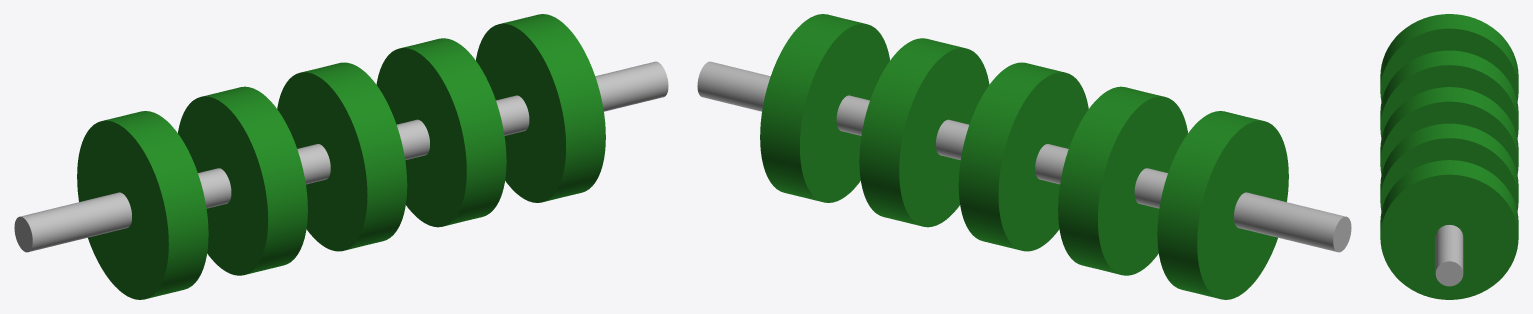
Rendered from sweeper_Shrinkwrap_1 v1.fbx.
3 renders of one model, left to right at view 1: azimuth 30°, elevation 25°; view 2: azimuth 150°, elevation 25°; view 3: azimuth 270°, elevation 25°, orthographic. The views are drawn at different scales.
Visible parts, largest first — view 1: Body4, Body2, Body6, Body3, Body5, Body1; view 2: Body4, Body2, Body6, Body5, Body3, Body1; view 3: Body6, Body2, Body3, Body5, Body4, Body1.
Boxes of the visible parts, x1,y1,x2,y2 form: Body4: [77, 111, 208, 299]; Body2: [277, 62, 407, 251]; Body6: [476, 14, 605, 202]; Body3: [178, 86, 307, 275]; Body5: [376, 38, 506, 227]; Body1: [14, 61, 668, 252]; Body4: [1157, 111, 1288, 299]; Body2: [958, 62, 1088, 251]; Body6: [760, 14, 889, 202]; Body5: [859, 38, 989, 227]; Body3: [1058, 86, 1187, 275]; Body1: [697, 61, 1351, 252]; Body6: [1380, 160, 1518, 299]; Body2: [1380, 87, 1518, 174]; Body3: [1380, 50, 1518, 137]; Body5: [1380, 123, 1518, 210]; Body4: [1380, 14, 1518, 101]; Body1: [1435, 225, 1463, 286].
Size of the model in its own units: 9.45 by 2.36 by 2.36.
